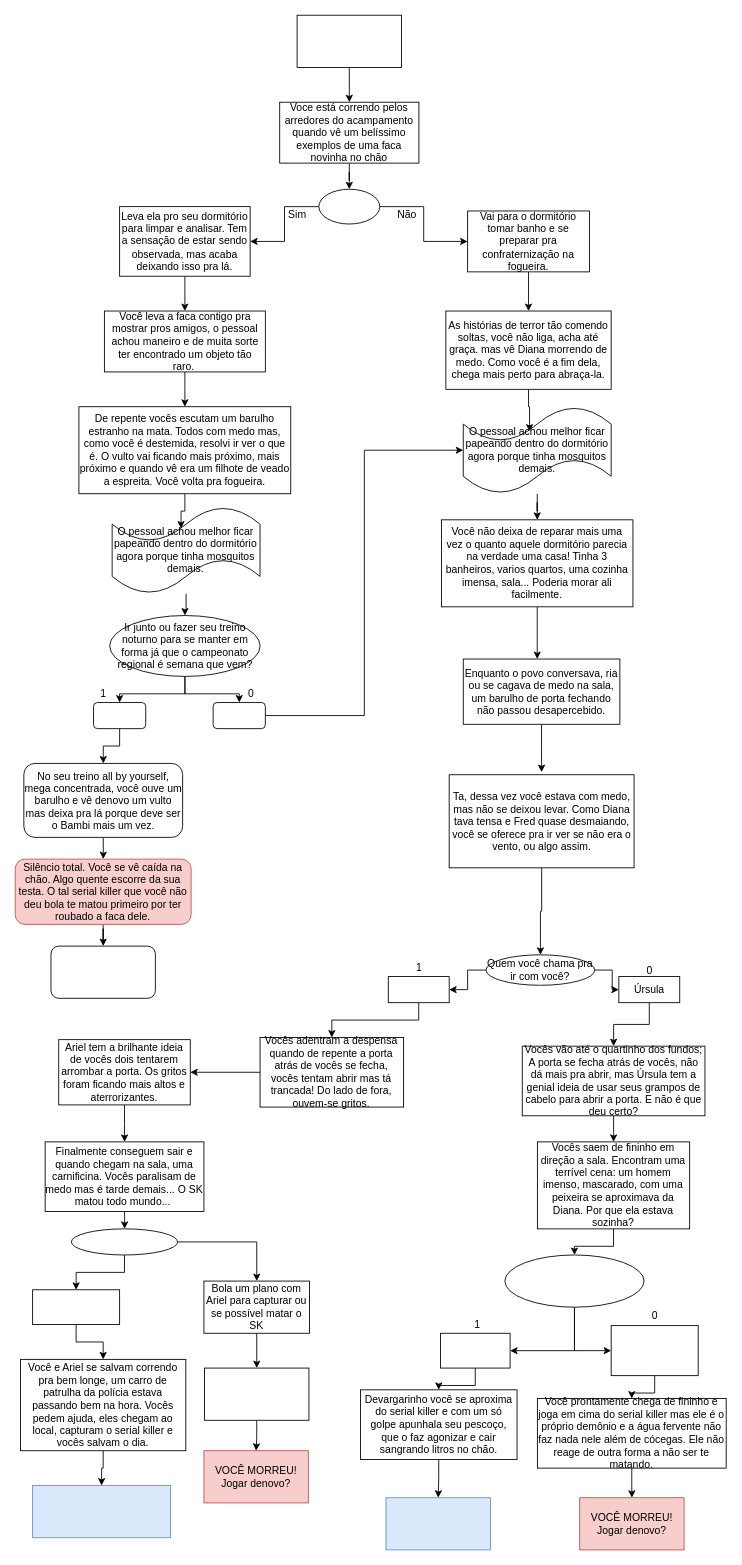
Some shapes in this 742 by 1565 pixel diagram are drawn without their labels. The box of each missing label's shape, as (x1, y1, x2, y2) in pixels:
Ariel: (387, 976, 449, 1003)
Corre que nem louca pra bem longe: (32, 1289, 120, 1325)
Deseja jogar denovo?: (50, 945, 155, 998)
Ir junto: (212, 702, 265, 729)
Joana: (296, 14, 402, 67)
O que você faz?: (70, 1228, 178, 1255)
PARABENS! VOCÊ SOBREVIVEU! Pena que seus amigos não tiveram a mesma sorte R.I.P.: (32, 1485, 171, 1538)
PARABENS! VOCÊ VENCEU E AINDA GANHOU A GAROTA!: (385, 1497, 490, 1550)
Pega a faca?: (318, 188, 380, 224)
Treinar: (93, 702, 146, 729)
Usa a faca que encontrou no mato: (440, 1332, 510, 1368)
Vai na cozinha e pega uma chaleira de água fervente: (610, 1325, 698, 1376)
Você rapidamente pensa em como deter o serial killer. O que você faz?: (504, 1254, 644, 1307)
Vocês demoraram muito pensando e de repente fica tudo escuro.: (204, 1367, 309, 1420)
